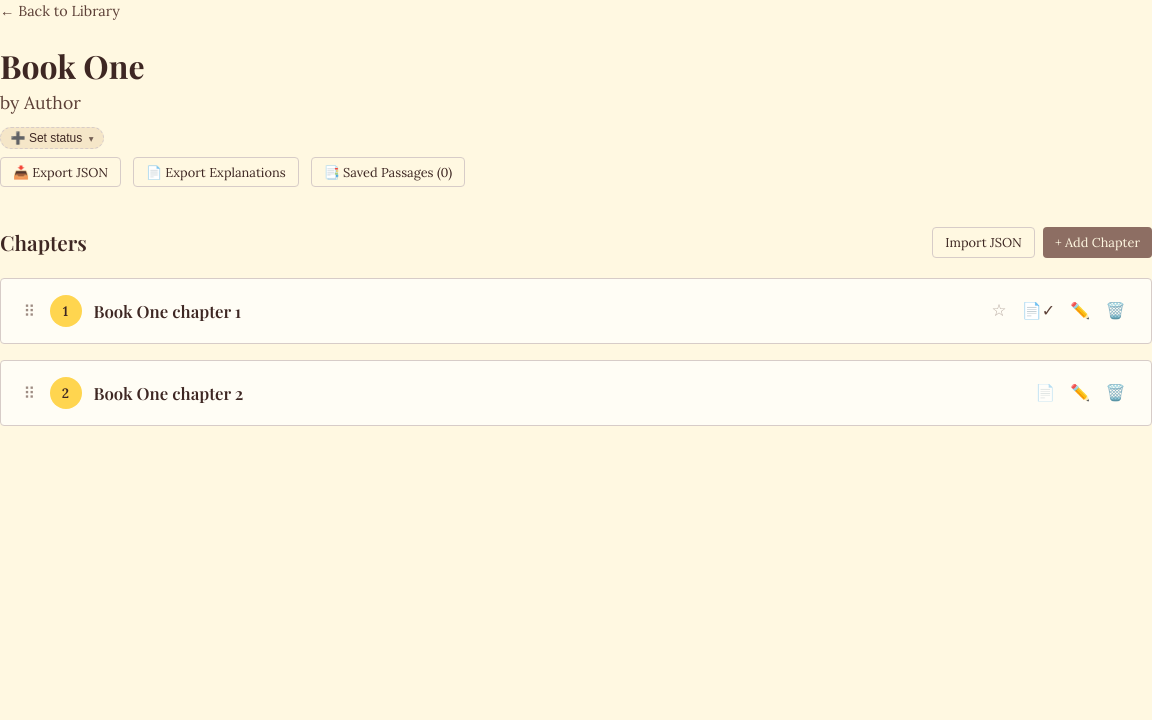
Test: book page failures › keeps the explanation open when deleting it fails
The width and height of the screenshot is (1152, 720).
Click the button titled "View / edit explanation".
click(1038, 311)  # box [1016,295,1061,327]
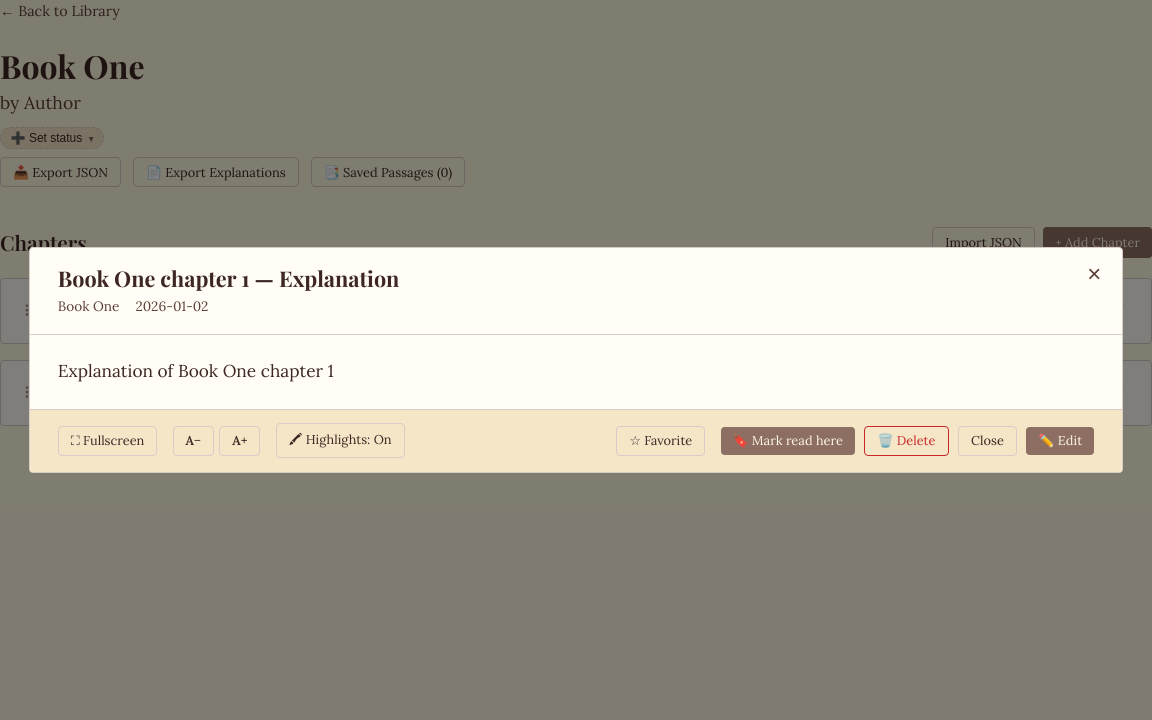
Now the text "Explanation of Book One chapter 1" is shown, box [58,360,334,382]
Click the button "🗑️ Delete".
click(906, 441)  # box [864,426,948,456]
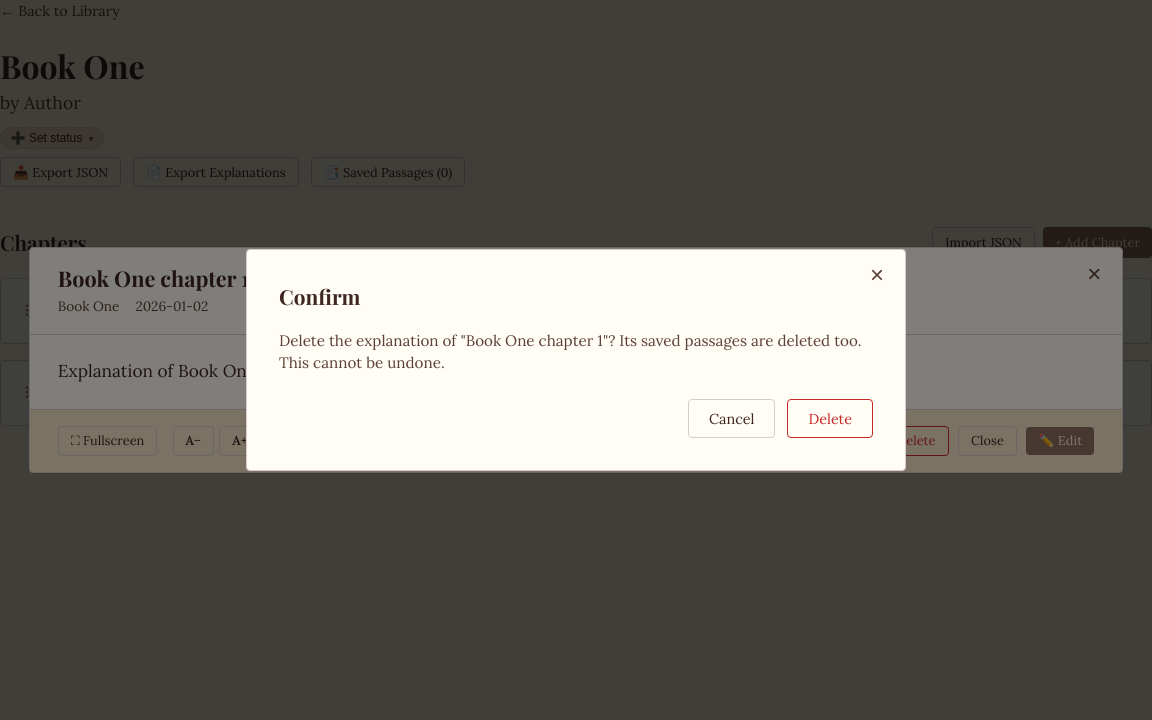
Click the button "Delete".
click(830, 419)  # box [788,399,873,438]
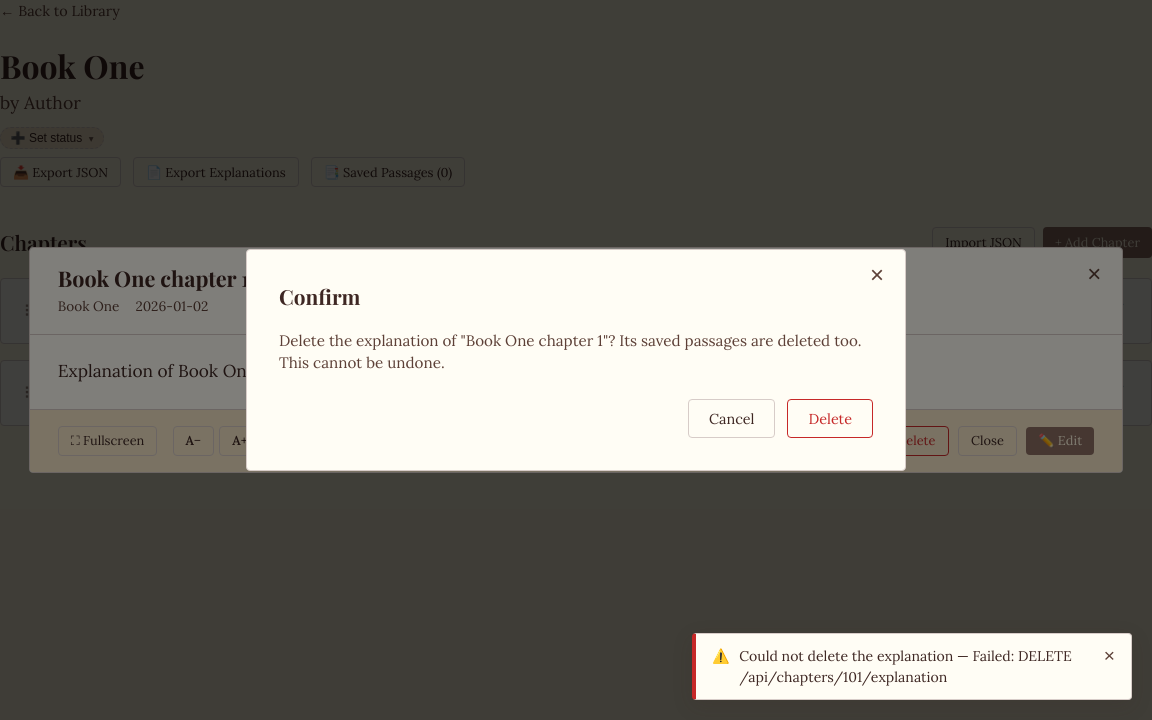
Now the text "Explanation of Book One chapter 1" is shown, box [58,360,334,382]
Now the message shows "Could not delete the explanation", box [739,647,1072,686]
